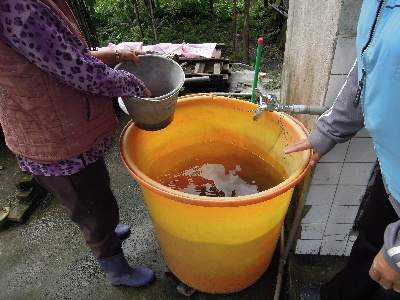bucket: (116, 91, 314, 295), (113, 53, 187, 132)
